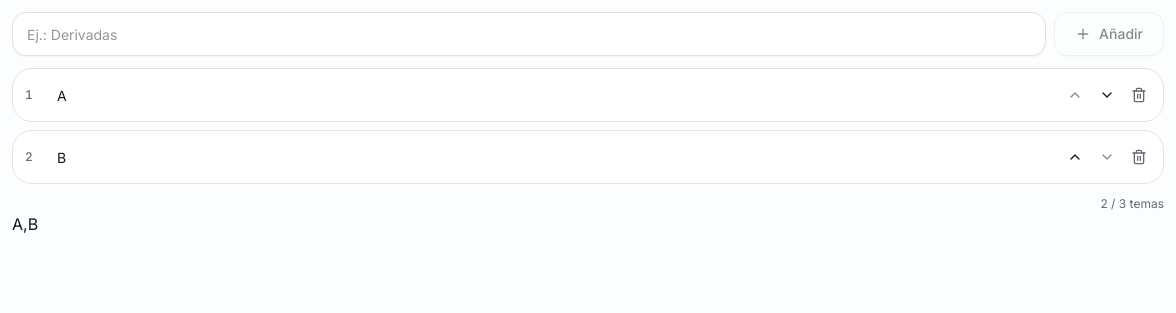
Test: <TopicEditor /> › bloquea la entrada al llegar al máximo
Type "C" into the field named "Añadir tema". click: coordinates (529, 34)
box: [12, 12, 1046, 56]
Then press Enter
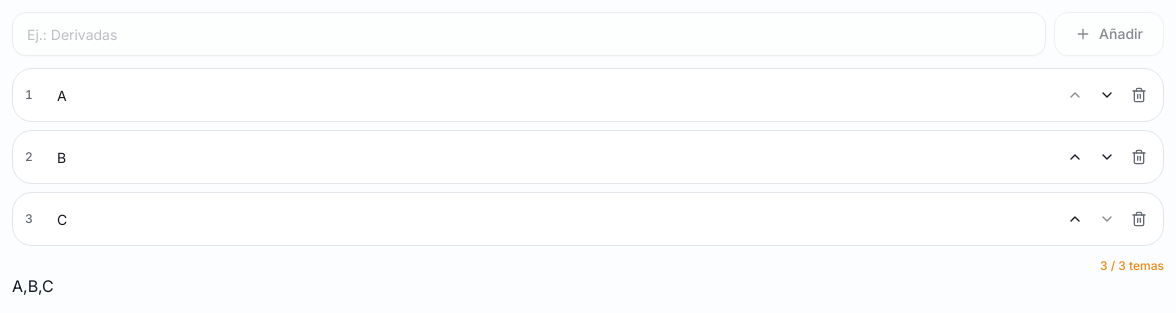
Now the text with test id "orden" reads "A,B,C", box [12, 276, 54, 296]
Now the field named "Añadir tema" is disabled, box [12, 12, 1046, 56]
Now the text "3 / 3 temas" is shown, box [1100, 258, 1164, 274]
